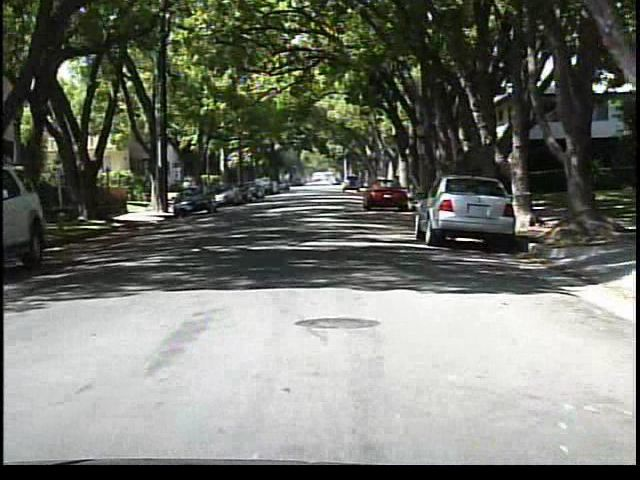person: (178, 176, 197, 209)
